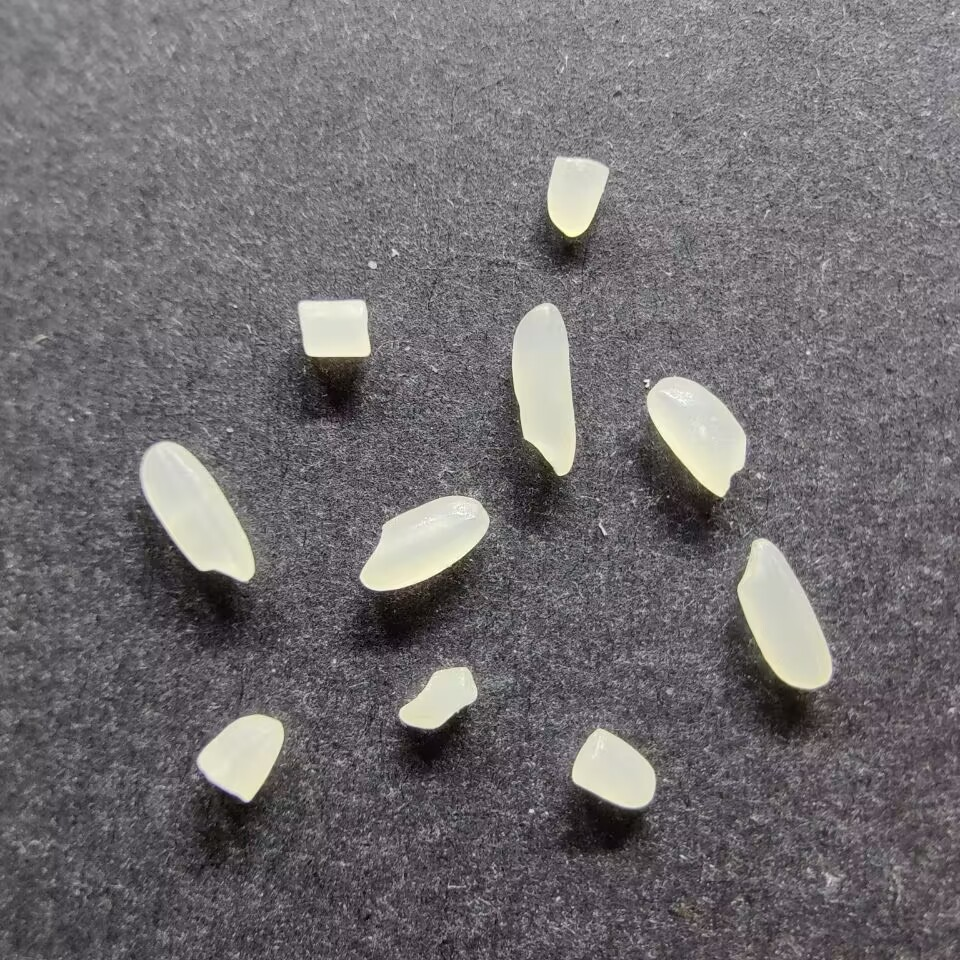broken: (195, 713, 283, 803), (570, 727, 655, 810), (396, 666, 480, 730), (546, 156, 609, 238), (295, 299, 372, 359)
rice: (138, 441, 254, 584), (735, 537, 833, 690), (359, 495, 490, 592), (645, 375, 747, 498), (510, 301, 577, 477)
